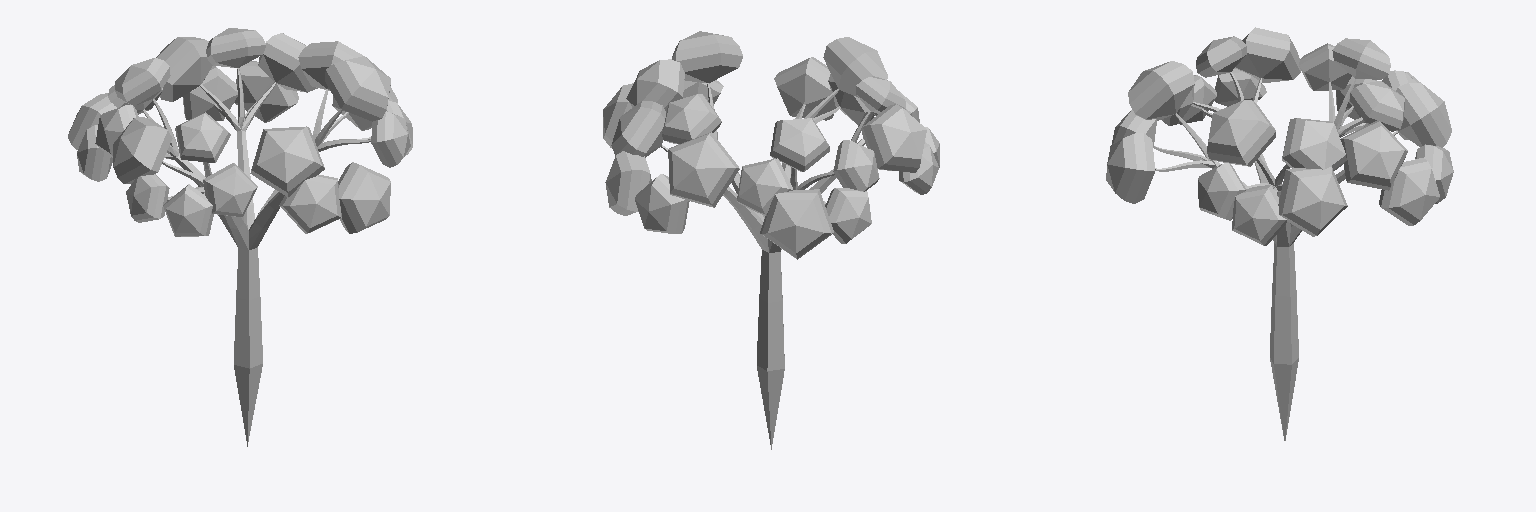
The model's file is Tree.obj.
3 renders of one model, left to right at view 1: azimuth 30°, elevation 25°; view 2: azimuth 150°, elevation 25°; view 3: azimuth 270°, elevation 25°, orthographic.
Parts seen in each view (by area): view 1: base58; view 2: base58; view 3: base58.
Part boxes in pixels (left/top/right/bottom): base58: left=68, top=28, right=412, bottom=446; base58: left=603, top=31, right=939, bottom=449; base58: left=1106, top=27, right=1453, bottom=440.
Size of the model in its own units: 40.53 by 50 by 41.22.